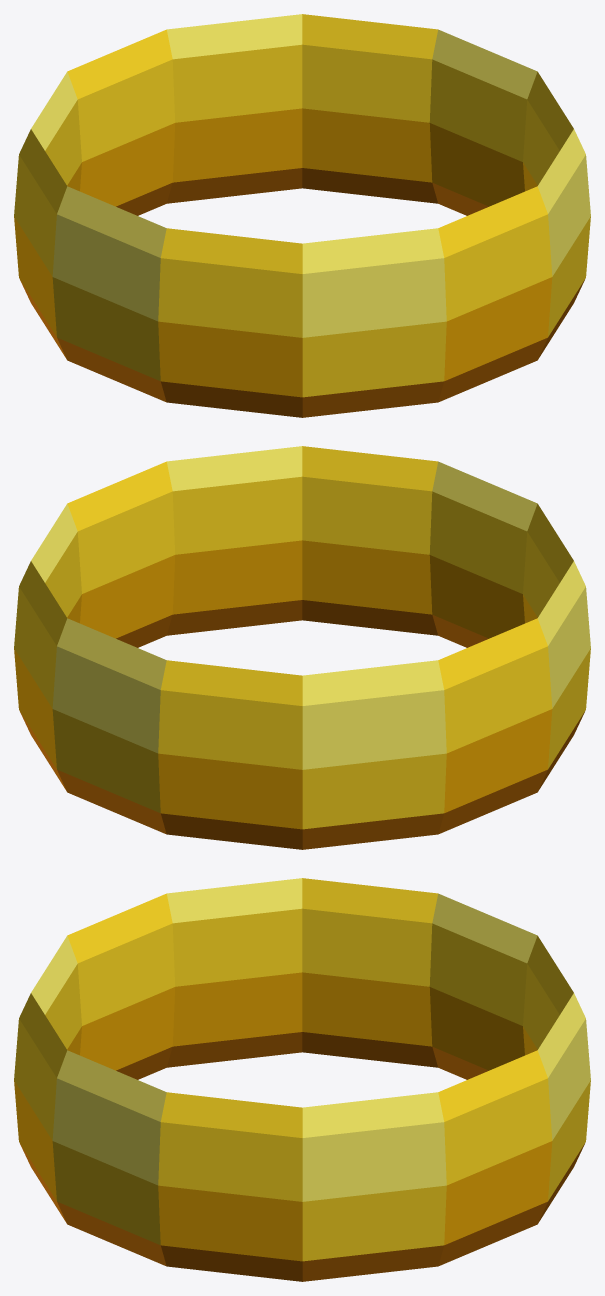
File: ring.glb
3 views of the same model, one above another, from view 1: azimuth 30°, elevation 25°; view 2: azimuth 150°, elevation 25°; view 3: azimuth 270°, elevation 25° (orthographic).
Visible parts, largest first — view 1: ring_0; view 2: ring_0; view 3: ring_0.
Part boxes in pixels (x1,y1,x2,y2): ring_0: (14, 14, 590, 417); ring_0: (14, 446, 590, 849); ring_0: (14, 878, 590, 1281).
Size of the model in its own units: 0.1875 by 0.0625 by 0.1875.
Materials: 1 (1 with a texture image).
